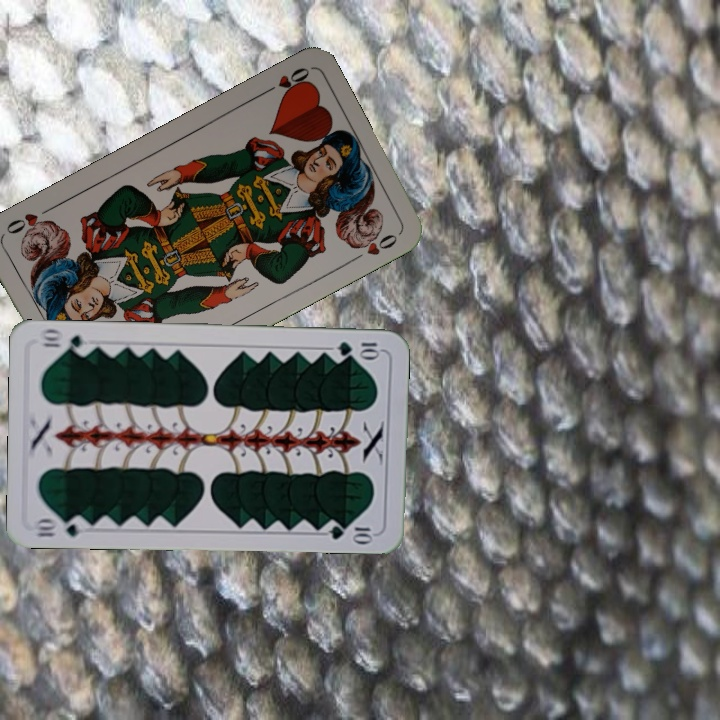G10: (31, 513, 90, 540), (333, 338, 383, 359)
HO: (257, 63, 313, 99)
